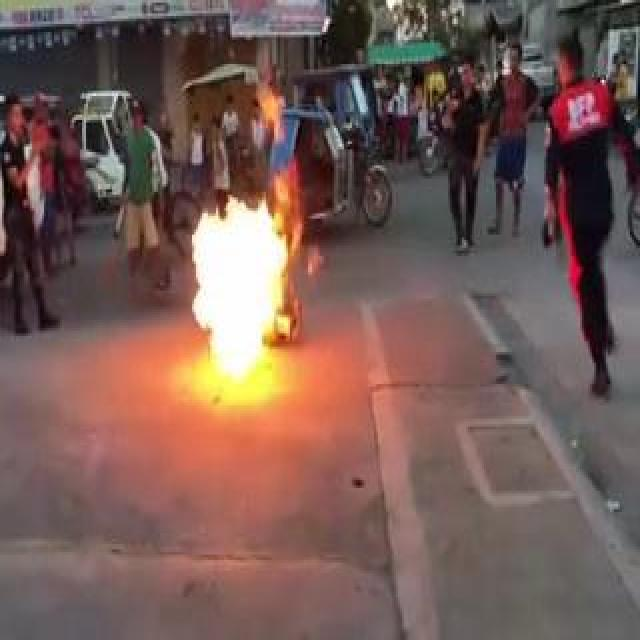Smoke: (188, 224, 288, 347)
